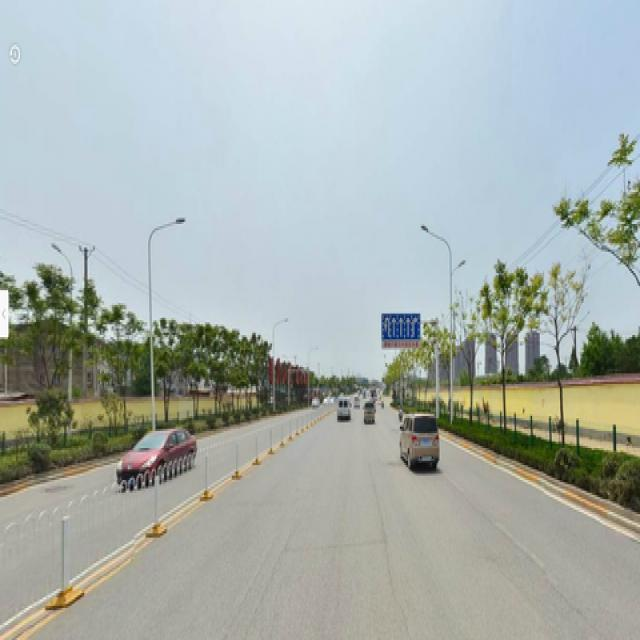koel: (531, 271, 580, 429), (31, 282, 80, 399), (590, 183, 638, 280), (104, 301, 139, 397), (453, 308, 487, 406)
